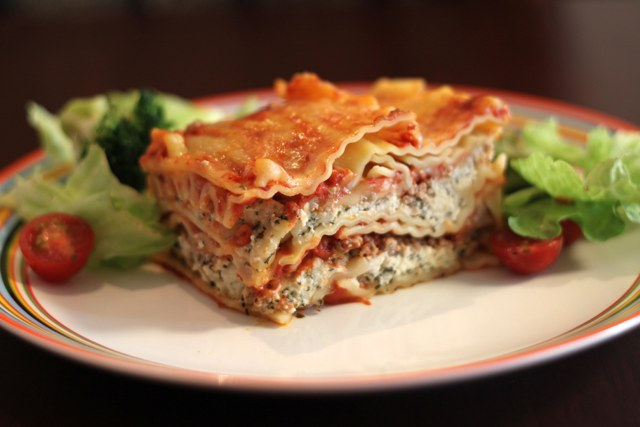tomato: (20, 215, 94, 281), (486, 225, 559, 272), (553, 216, 584, 244)
